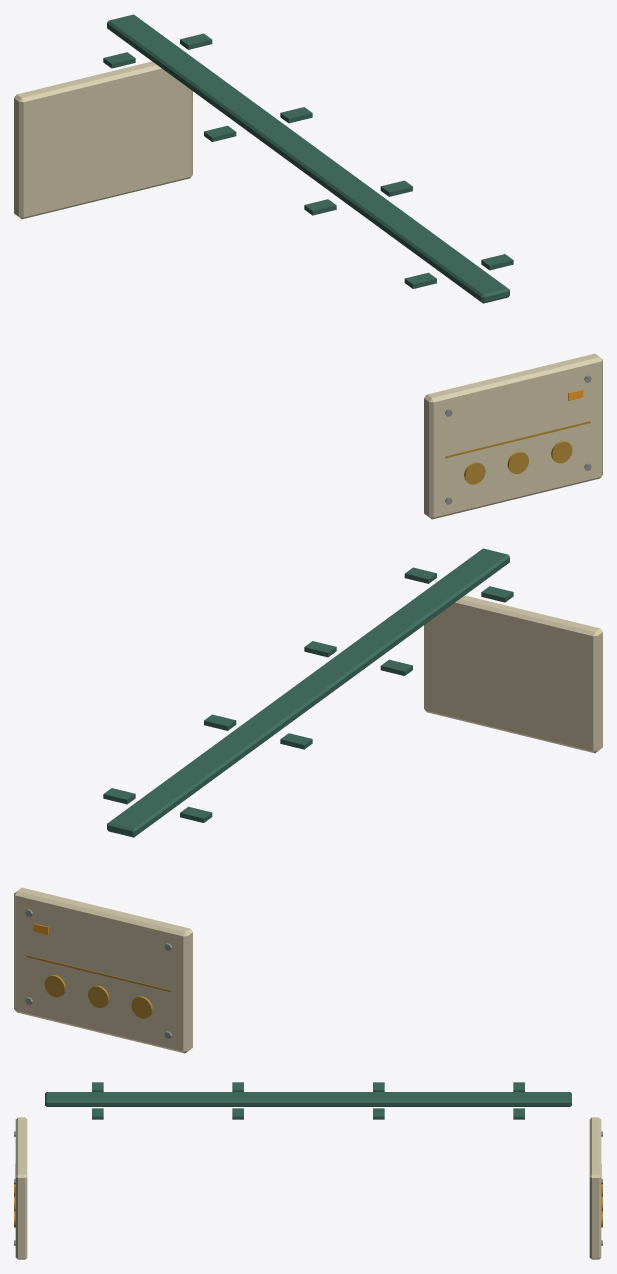
Rendered from vls8_ignition.obj.
3 views of the same model, one above another, from view 1: azimuth 30°, elevation 25°; view 2: azimuth 150°, elevation 25°; view 3: azimuth 270°, elevation 25° (orthographic). The views are drawn at different scales.
Visible parts, largest first — view 1: vls8_ignition; view 2: vls8_ignition; view 3: vls8_ignition.
Part boxes in pixels (x1=…): vls8_ignition: x1=14, y1=14, x2=602, y2=519; vls8_ignition: x1=14, y1=548, x2=602, y2=1053; vls8_ignition: x1=14, y1=1082, x2=602, y2=1259.
Bounding box in the file's own units: 1.2 × 1.27 × 5.03.
